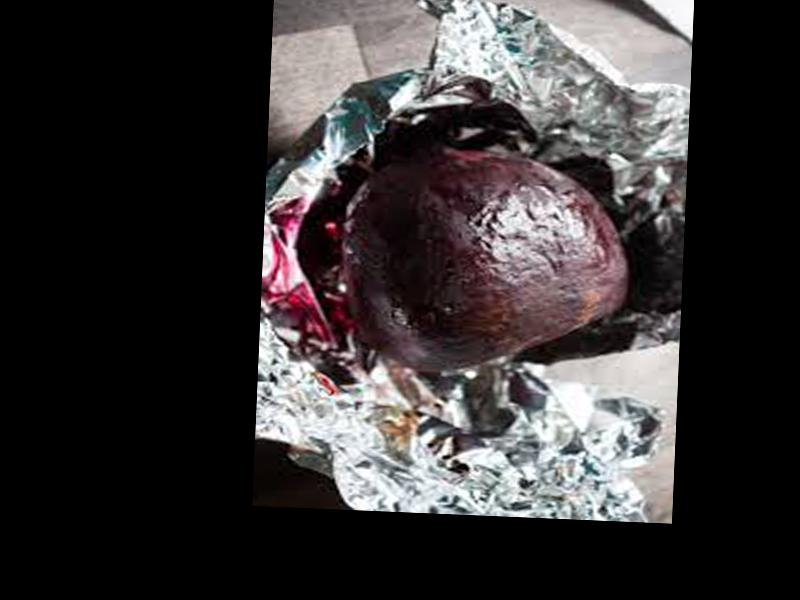Beet: (349, 140, 635, 380)
